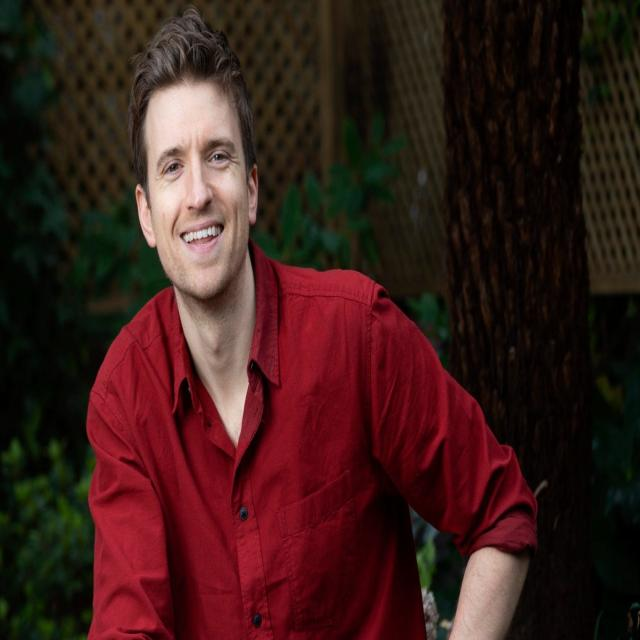mobile_phonerotation: (84, 7, 539, 638)
